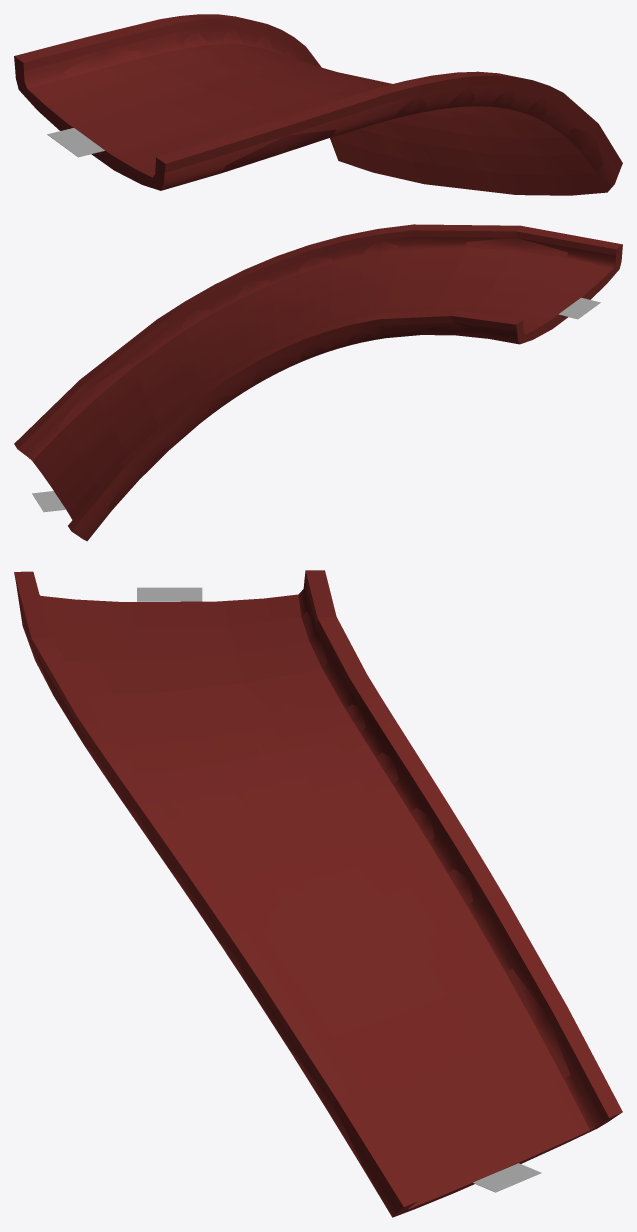
File: FlatConnector45DownLeft.fbx
3 views of the same model, one above another, from view 1: azimuth 30°, elevation 25°; view 2: azimuth 150°, elevation 25°; view 3: azimuth 270°, elevation 25° (orthographic). The views are drawn at different scales.
Parts seen in each view (by area): view 1: pPipe3, pasted__pCube3; view 2: pPipe3, pasted__pCube3, pasted__pCube43; view 3: pPipe3, pasted__pCube3, pasted__pCube43.
Part boxes in pixels (x1=…): pPipe3: x1=14, y1=14, x2=622, y2=195; pasted__pCube3: x1=47, y1=128, x2=104, y2=157; pPipe3: x1=14, y1=224, x2=622, y2=541; pasted__pCube3: x1=558, y1=297, x2=600, y2=319; pasted__pCube43: x1=32, y1=491, x2=65, y2=512; pPipe3: x1=14, y1=570, x2=622, y2=1217; pasted__pCube3: x1=137, y1=587, x2=202, y2=601; pasted__pCube43: x1=473, y1=1163, x2=541, y2=1192.
Size of the model in its own units: 24.94 by 11.37 by 18.68.
